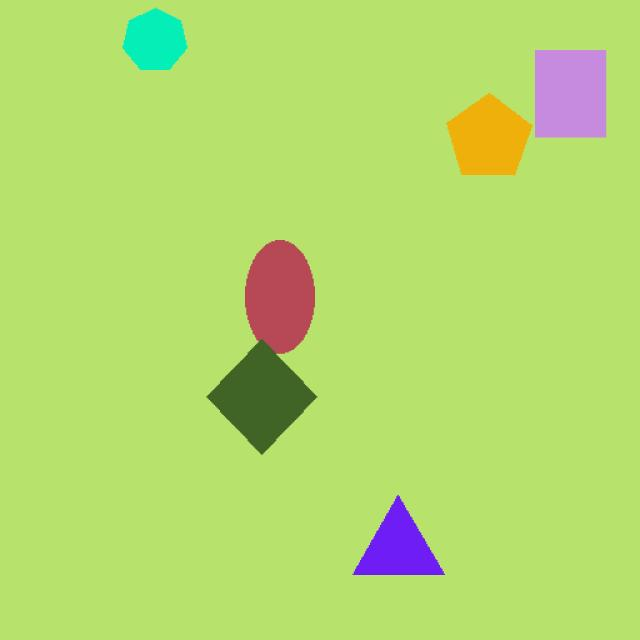Circle: (232, 236, 350, 374)
Heptagon: (115, 4, 207, 81)
Pentagon: (439, 85, 539, 192)
Triangle: (338, 489, 461, 594)
square: (201, 338, 325, 466), (530, 39, 626, 142)
